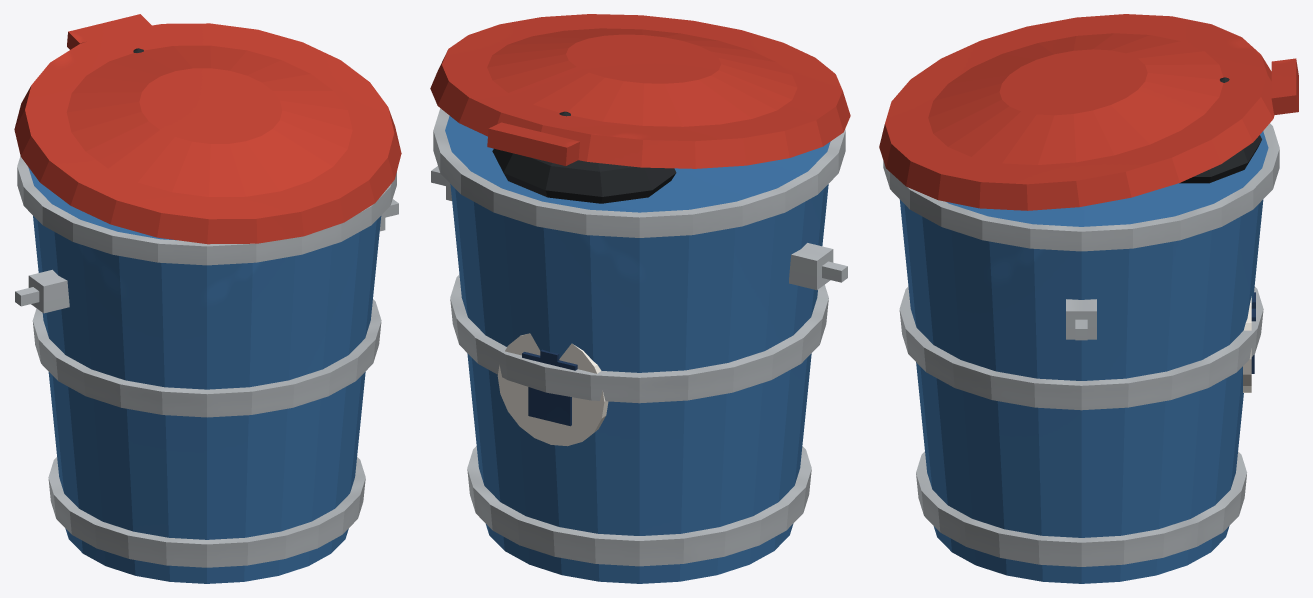
Rendered from trash_bin.glb.
The picture shows the model from 3 angles, left to right: view 1: azimuth 30°, elevation 25°; view 2: azimuth 150°, elevation 25°; view 3: azimuth 270°, elevation 25°; orthographic projection. The views are drawn at different scales.
Parts seen in each view (by area): view 1: trash_bin_body, Lid, trash_bin_fittings; view 2: trash_bin_body, Lid, trash_bin_fittings, trash_bin_label, trash_bin_bag; view 3: trash_bin_body, Lid, trash_bin_fittings, trash_bin_bag, trash_bin_label.
Part boxes in pixels (bbox=[...]): trash_bin_body: bbox=[28, 167, 381, 583]; Lid: bbox=[14, 14, 401, 244]; trash_bin_fittings: bbox=[15, 156, 398, 567]; trash_bin_body: bbox=[445, 116, 830, 583]; Lid: bbox=[430, 14, 850, 168]; trash_bin_fittings: bbox=[431, 108, 847, 566]; trash_bin_label: bbox=[497, 333, 608, 446]; trash_bin_bag: bbox=[492, 111, 676, 203]; trash_bin_body: bbox=[899, 131, 1268, 583]; Lid: bbox=[879, 14, 1298, 210]; trash_bin_fittings: bbox=[883, 123, 1279, 566]; trash_bin_bag: bbox=[1179, 77, 1261, 183]; trash_bin_label: bbox=[1243, 292, 1255, 392].
Size of the model in its own units: 0.7309 by 0.7928 by 0.6734.
Materials: 6 (4 with a texture image).
